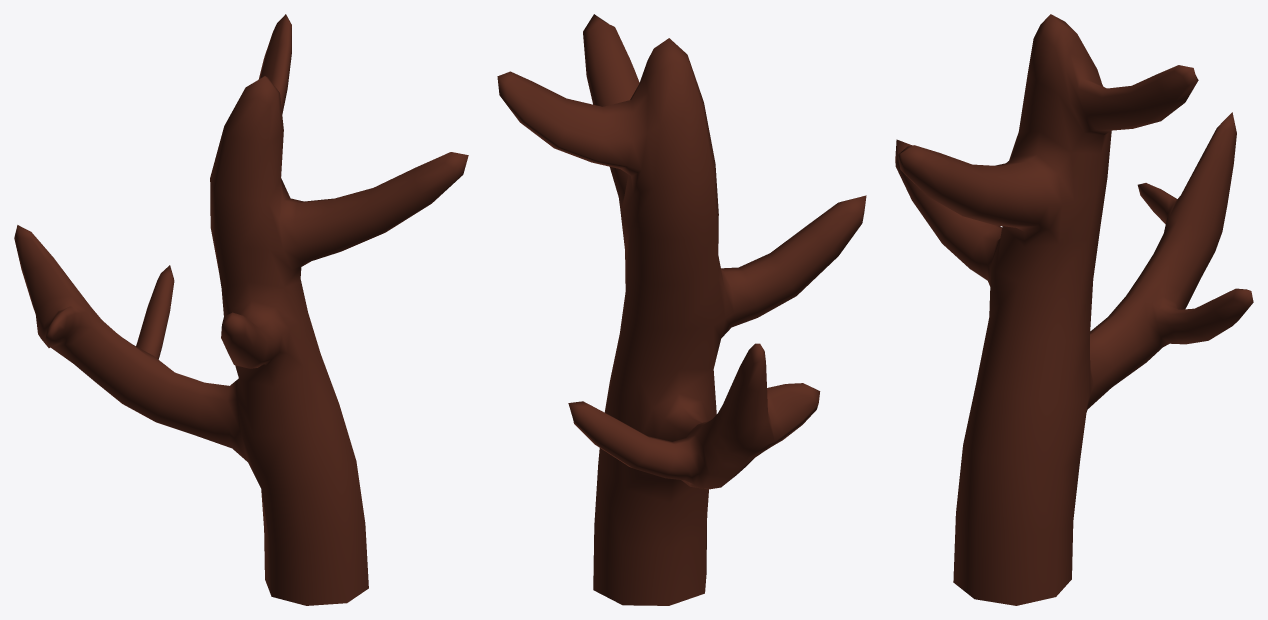
The model's file is Tree.glb.
3 views of the same model, side by side, from view 1: azimuth 30°, elevation 25°; view 2: azimuth 150°, elevation 25°; view 3: azimuth 270°, elevation 25° (orthographic). The views are drawn at different scales.
Parts seen in each view (by area): view 1: Tree.col; view 2: Tree.col; view 3: Tree.col.
Part boxes in pixels (x1,y1,x2,y2): Tree.col: (14, 14, 468, 605); Tree.col: (497, 14, 866, 605); Tree.col: (895, 14, 1253, 605).
Bounding box in the file's own units: 12.79 × 19.76 × 11.69.
